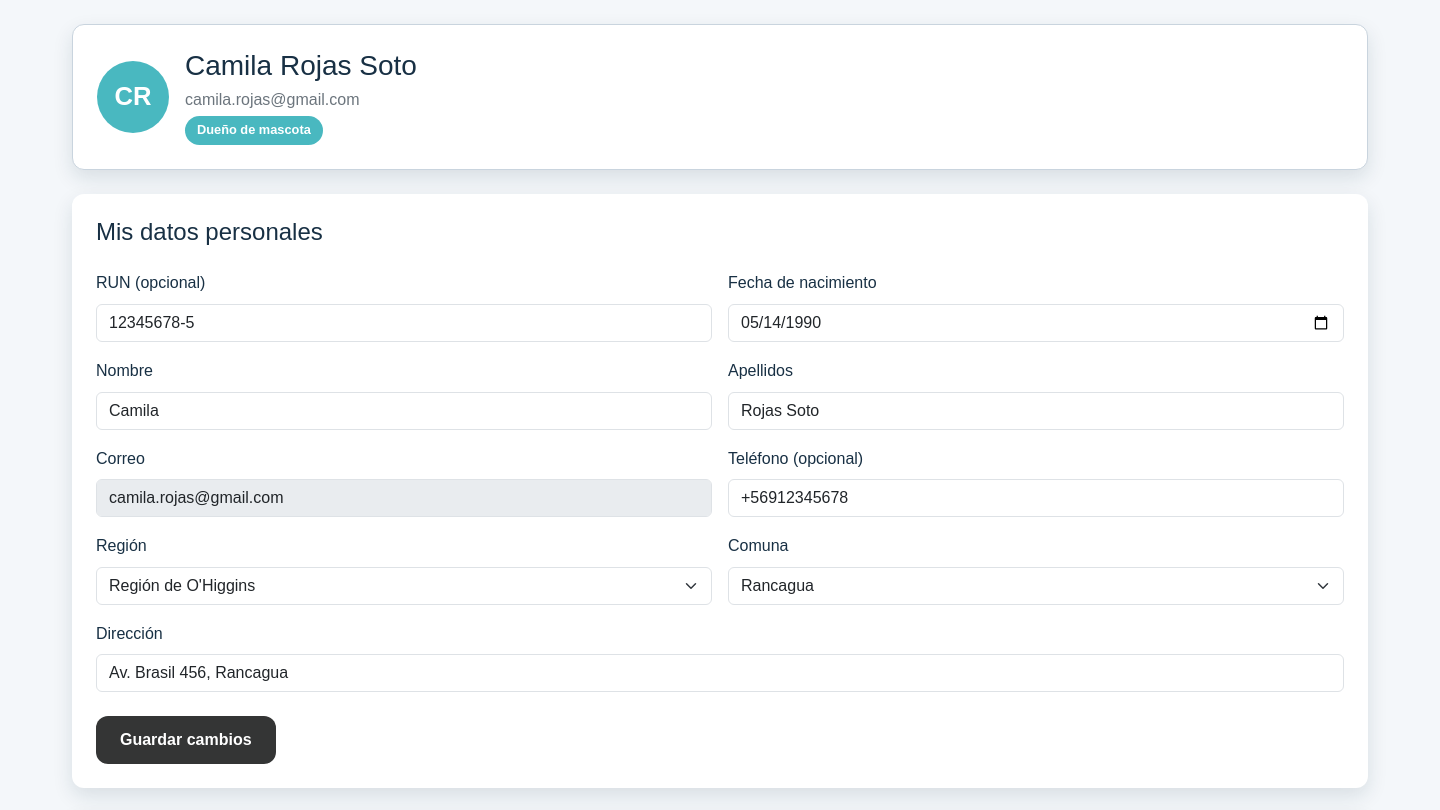
it: MiPerfil › guarda en ms-auth los cambios de los datos personales
Replace the text in the field labelled "Nombre" with "Camila Andrea" at (404, 411), box left=96, top=392, right=712, bottom=430
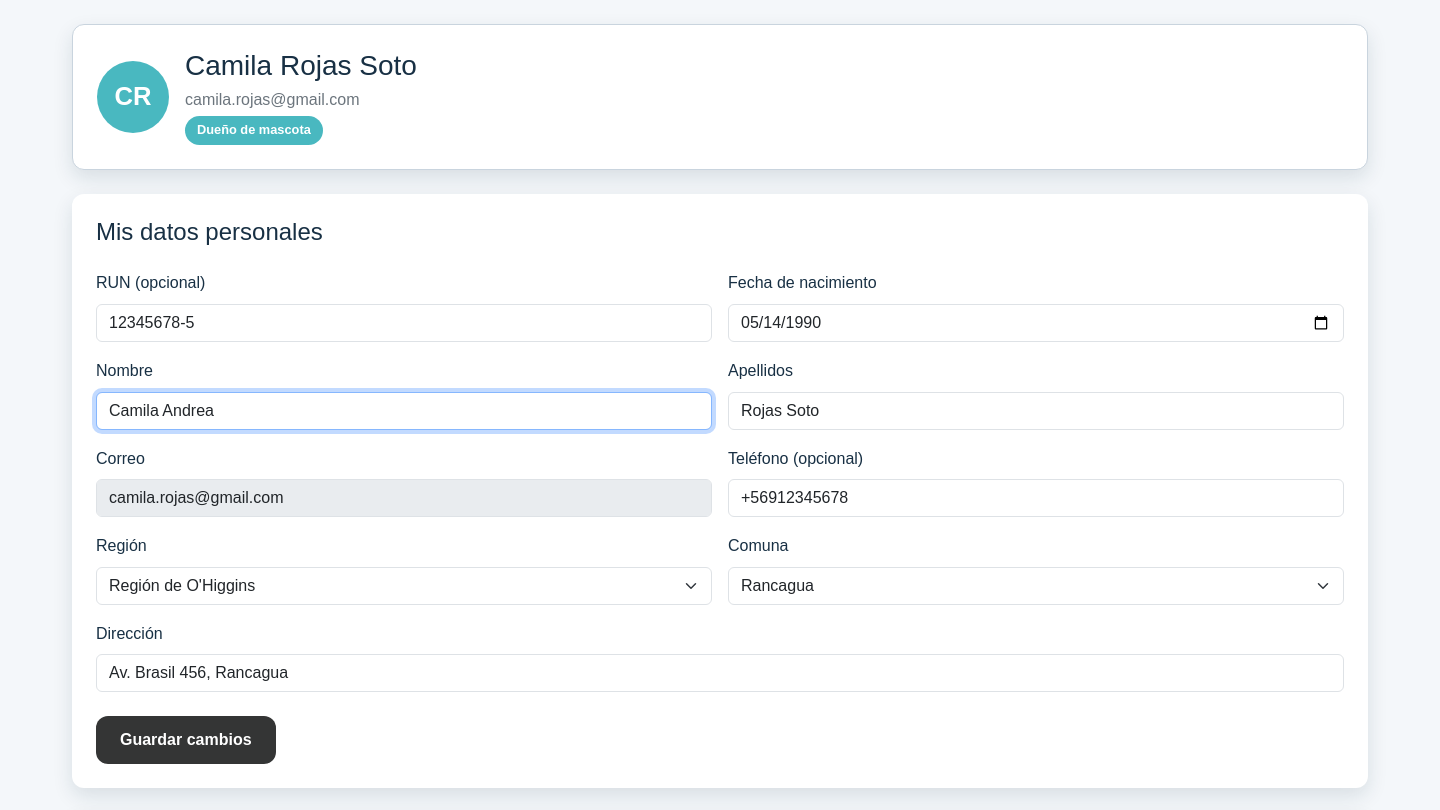
Click the button "Guardar cambios".
click(186, 740)  # box left=96, top=716, right=276, bottom=764
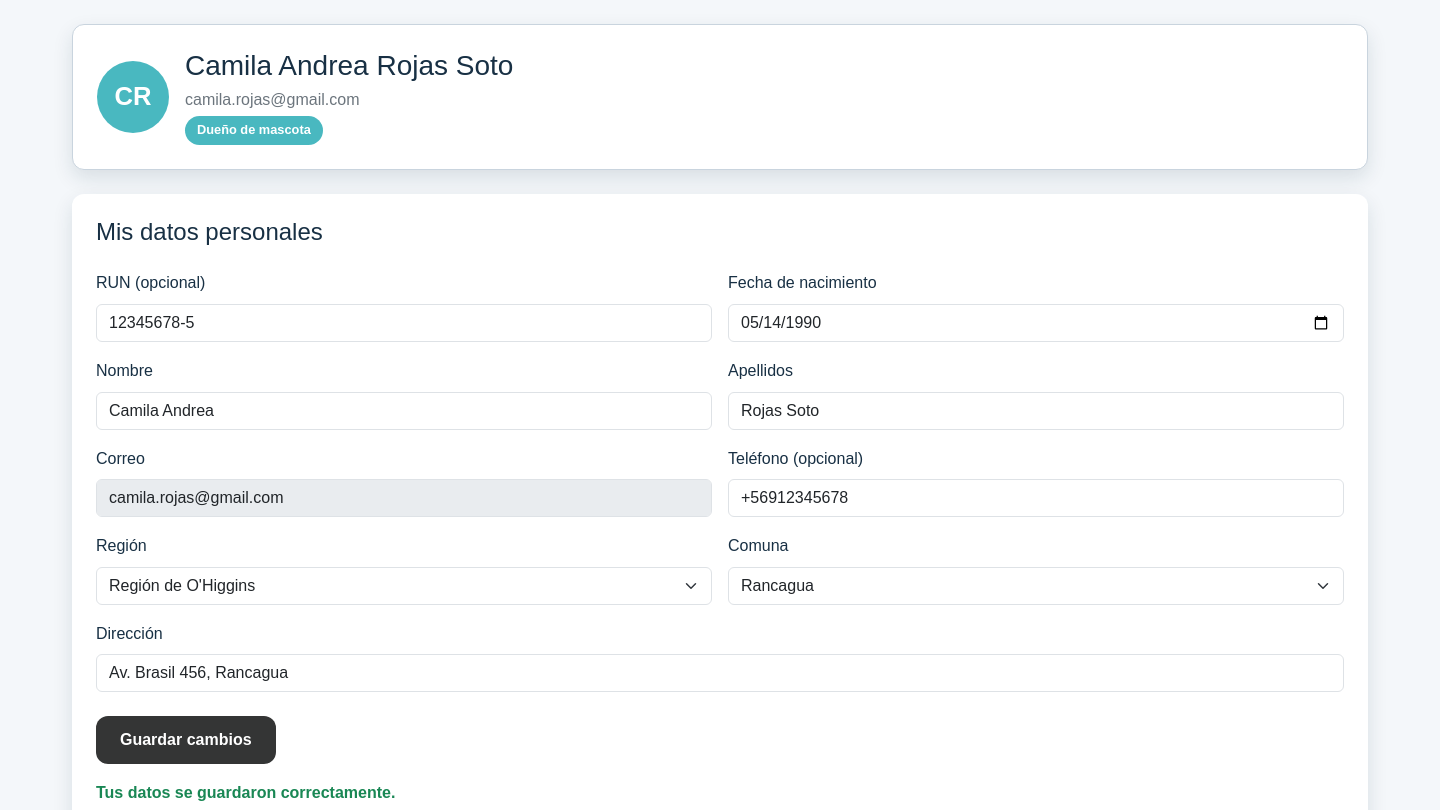
Check: the text "Tus datos se guardaron correctamente." is shown, box left=96, top=784, right=395, bottom=801
Check: the heading "Camila Andrea Rojas Soto" is shown, box left=185, top=49, right=513, bottom=83
